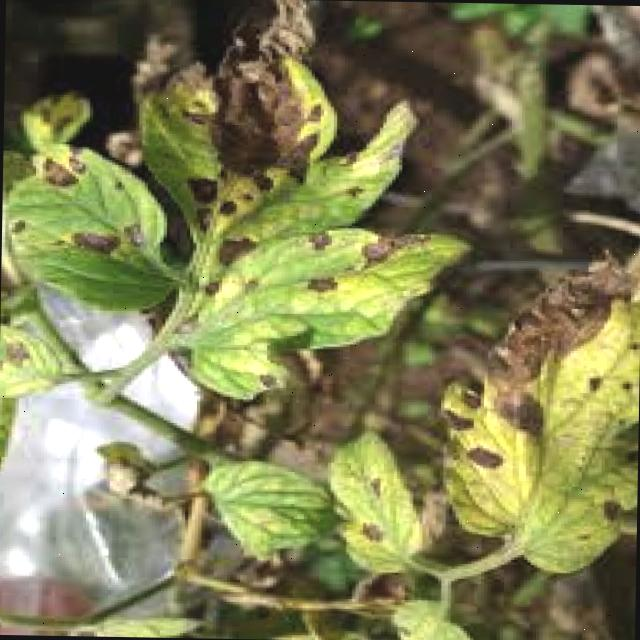leaf spot: (154, 217, 470, 414), (316, 428, 441, 584)
